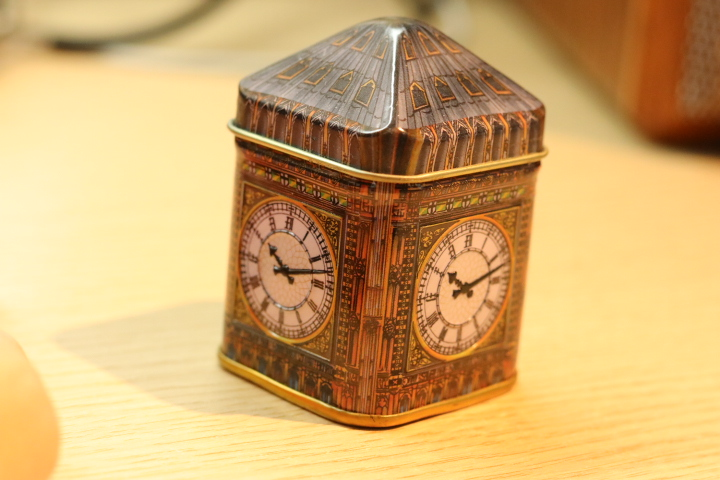Big Ben: (210, 8, 575, 430)
